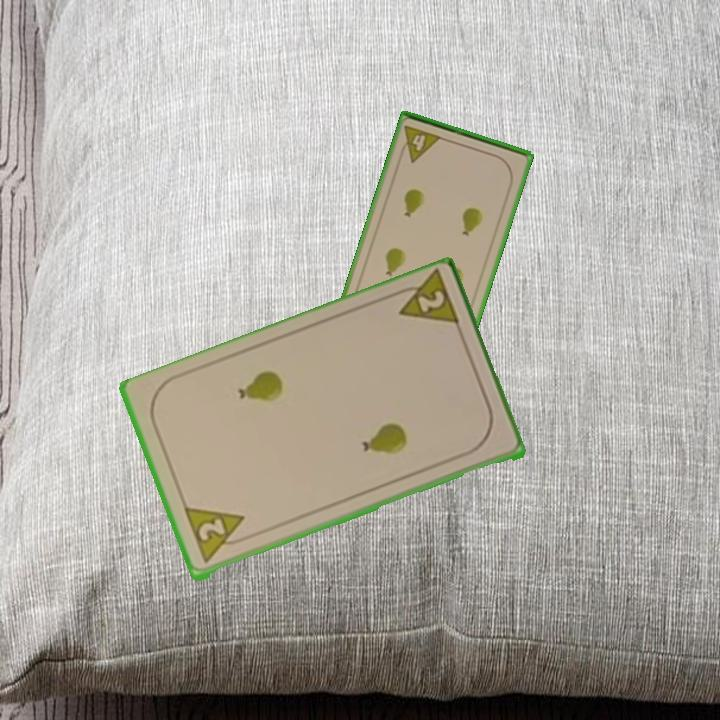2p: (387, 269, 463, 332), (180, 504, 253, 567)
4p: (396, 122, 445, 165)
